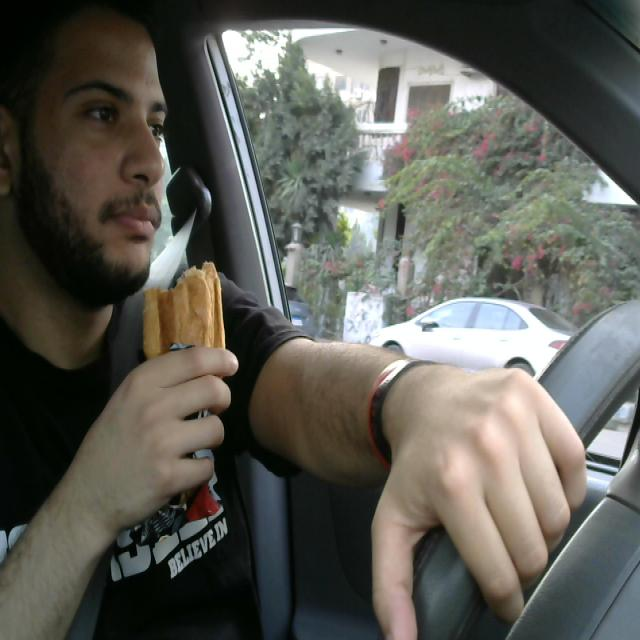eating: (134, 255, 228, 552)
